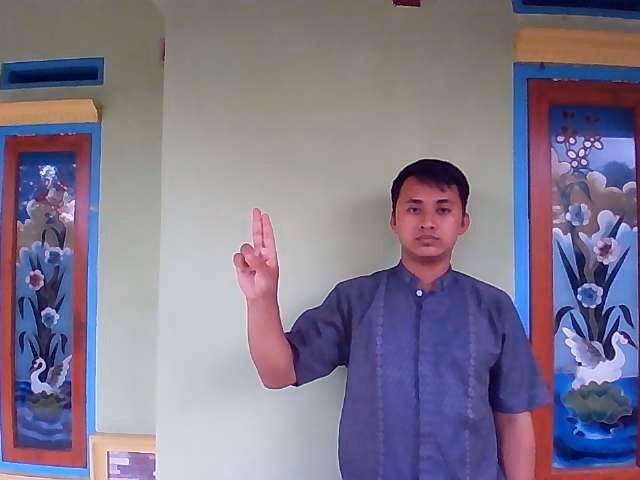U: (230, 206, 281, 308)
